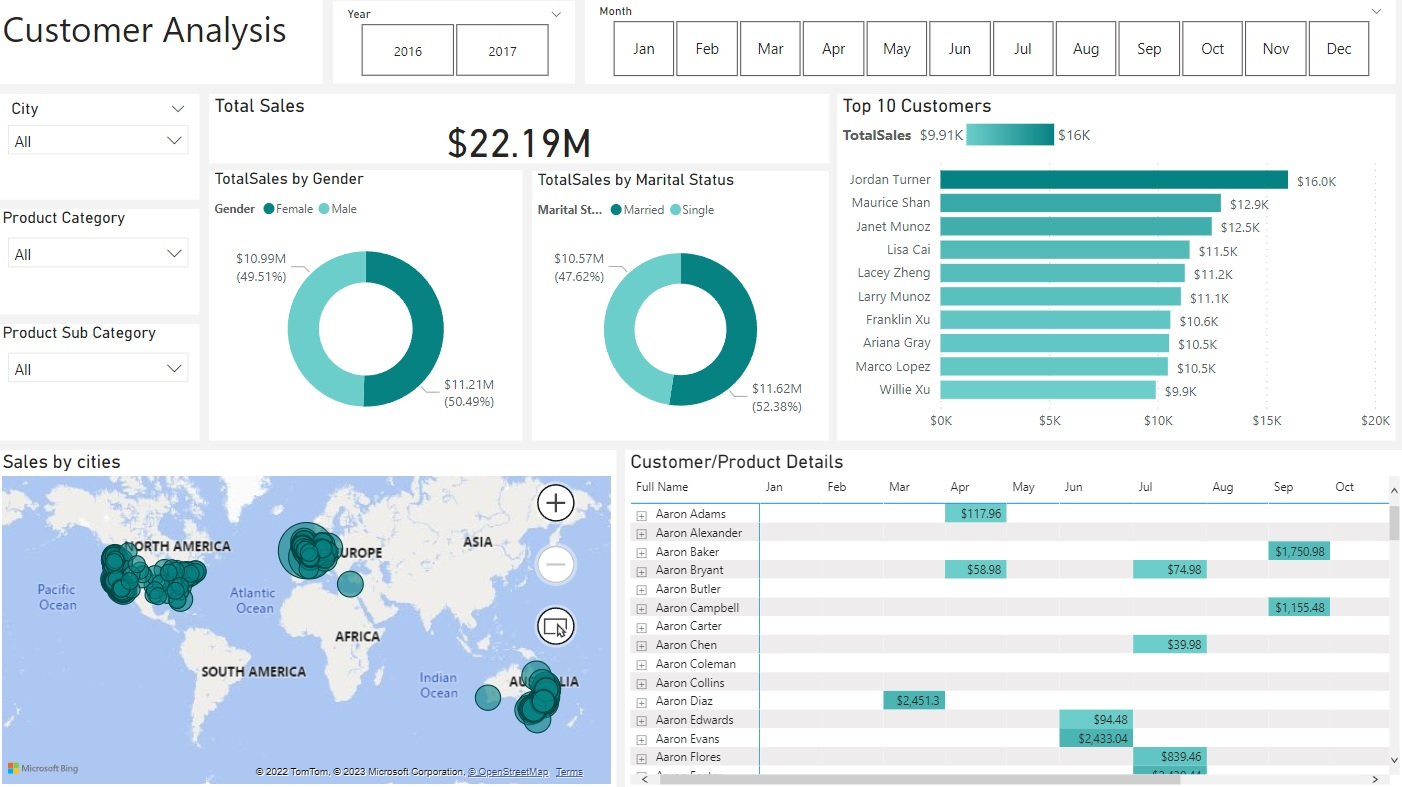

What the dashboard file says about the page in this screenshot:
{"tool":"powerbi","page":{"name":"Customer Analysis","canvas":[1280,720],"ordinal":1},"visuals":[{"type":"textbox","box":[0,0,296.4,78.2],"z":0},{"type":"slicer","fields":{"Values":["Dim_Date.Year"]},"box":[305.4,2.7,220.3,75.2],"z":1000},{"type":"slicer","title":"Product Category","fields":{"Values":["Dim_Product.Category"]},"box":[0,191.6,183.6,95.8],"z":2000},{"type":"slicer","title":"Product Sub Category","fields":{"Values":["Dim_Product.Sub Category"]},"box":[0,296.4,183.6,105.7],"z":3000},{"type":"slicer","fields":{"Values":["Dim_Customer.City"]},"box":[0,86.9,183.6,95.8],"z":4000},{"type":"slicer","fields":{"Values":["Dim_Date.Month"]},"box":[534.6,0,737,77.9],"z":5000},{"type":"barChart","title":"Top 10 Customers","fields":{"Category":["Dim_Customer.Full Name"],"Y":["Fact_Internet_Sales.TotalSales"]},"box":[763.9,86.9,507.8,315.2],"z":6000},{"type":"map","title":"Sales by cities","fields":{"Category":["Dim_Customer.City"],"Size":["Fact_Internet_Sales.TotalSales"]},"box":[0,410.9,562.7,309.1],"z":7000},{"type":"donutChart","fields":{"Y":["Fact_Internet_Sales.TotalSales"],"Category":["Dim_Customer.Gender"]},"box":[192.7,156.4,284.5,246.4],"z":8000},{"type":"pivotTable","title":"Customer/Product Details","fields":{"Rows":["Dim_Customer.Full Name","Dim_Product.EnglishProductName"],"Columns":["Dim_Date.Month"],"Values":["Fact_Internet_Sales.TotalSales"]},"box":[570.9,410.9,709.1,309.1],"z":9000},{"type":"donutChart","fields":{"Y":["Fact_Internet_Sales.TotalSales"],"Category":["Dim_Customer.Marital Status"]},"box":[486.4,157.3,270,245.5],"z":10000},{"type":"card","title":"Total Sales","fields":{"Values":["Fact_Internet_Sales.TotalSales"]},"box":[192.7,87.3,563.6,62.7],"z":10001}]}

Visuals, with their boxes in screenshot pixels (x1, y1, x2, y2), scaled from the page's 1280x720 canvas onto the 1402x787 screenshot:
textbox: box(0, 0, 325, 85)
slicer - Dim_Date.Year: box(335, 3, 576, 85)
"Product Category" slicer: box(0, 209, 201, 314)
"Product Sub Category" slicer: box(0, 324, 201, 440)
slicer - Dim_Customer.City: box(0, 95, 201, 200)
slicer - Dim_Date.Month: box(586, 0, 1393, 85)
"Top 10 Customers" barChart: box(837, 95, 1393, 440)
"Sales by cities" map: box(0, 449, 616, 786)
donutChart - Fact_Internet_Sales.TotalSales x Dim_Customer.Gender: box(211, 171, 523, 440)
"Customer/Product Details" pivotTable: box(625, 449, 1401, 786)
donutChart - Fact_Internet_Sales.TotalSales x Dim_Customer.Marital Status: box(533, 172, 828, 440)
"Total Sales" card: box(211, 95, 828, 164)
